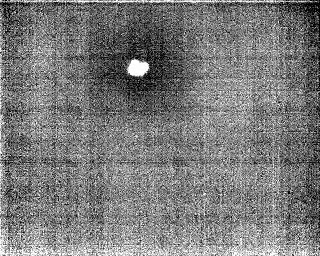AIRPLANE: (124, 55, 151, 80)
